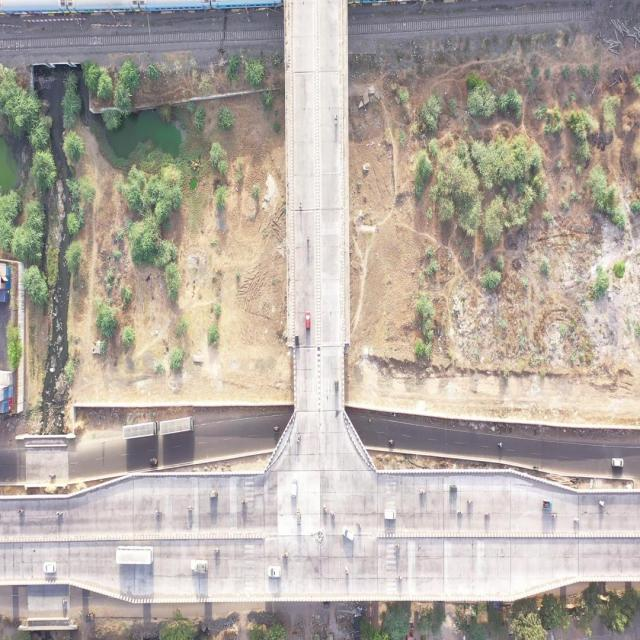3W: (296, 507, 302, 527), (449, 483, 458, 494), (209, 489, 218, 499), (334, 378, 339, 395), (294, 332, 300, 346), (149, 457, 159, 465), (86, 612, 94, 622)
Bus: (116, 546, 154, 566), (159, 416, 195, 436), (123, 421, 158, 439)
Cars: (267, 564, 282, 579), (342, 525, 354, 543), (291, 472, 299, 497), (43, 561, 57, 574), (304, 310, 312, 330), (384, 508, 396, 521), (612, 458, 624, 468)
LCV: (190, 559, 209, 575), (542, 498, 553, 511)
M2W: (394, 574, 404, 582), (344, 564, 350, 577), (48, 471, 57, 479), (322, 503, 328, 515), (482, 510, 490, 518), (296, 433, 301, 445), (330, 509, 336, 519), (298, 200, 303, 212), (214, 546, 221, 554), (419, 488, 427, 495), (466, 498, 474, 505), (598, 499, 606, 506), (357, 519, 362, 530), (55, 511, 64, 517), (155, 509, 162, 516), (241, 499, 248, 506), (282, 551, 289, 558), (456, 508, 463, 515), (573, 517, 580, 524), (388, 438, 395, 445), (17, 508, 25, 514), (532, 464, 540, 470), (188, 506, 195, 512), (273, 425, 280, 431), (394, 542, 401, 548), (551, 513, 558, 519), (335, 113, 338, 126), (61, 598, 67, 604), (497, 442, 504, 447), (307, 234, 310, 245)
